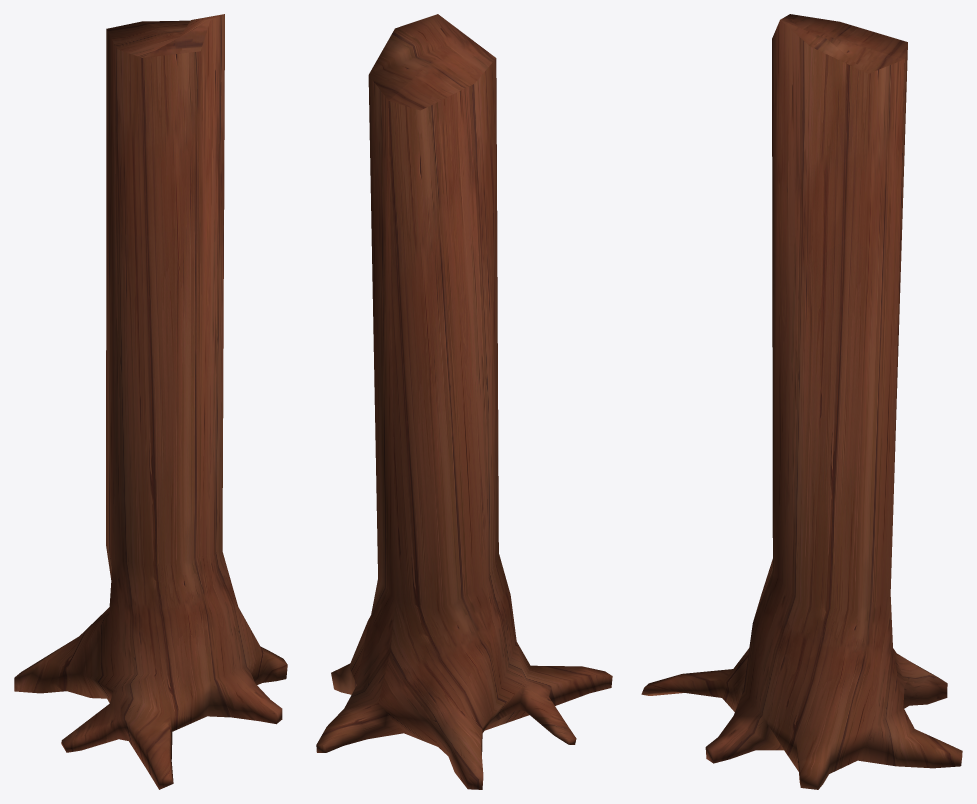
File: Tree.FBX
3 renders of one model, left to right at view 1: azimuth 30°, elevation 25°; view 2: azimuth 150°, elevation 25°; view 3: azimuth 270°, elevation 25°, orthographic. The views are drawn at different scales.
Parts seen in each view (by area): view 1: Tree; view 2: Tree; view 3: Tree.
Boxes of the visible parts, <box> form: Tree: <box>14,14,287,789</box>; Tree: <box>316,14,612,789</box>; Tree: <box>641,14,962,789</box>.
Size of the model in its own units: 166 by 478 by 188.
